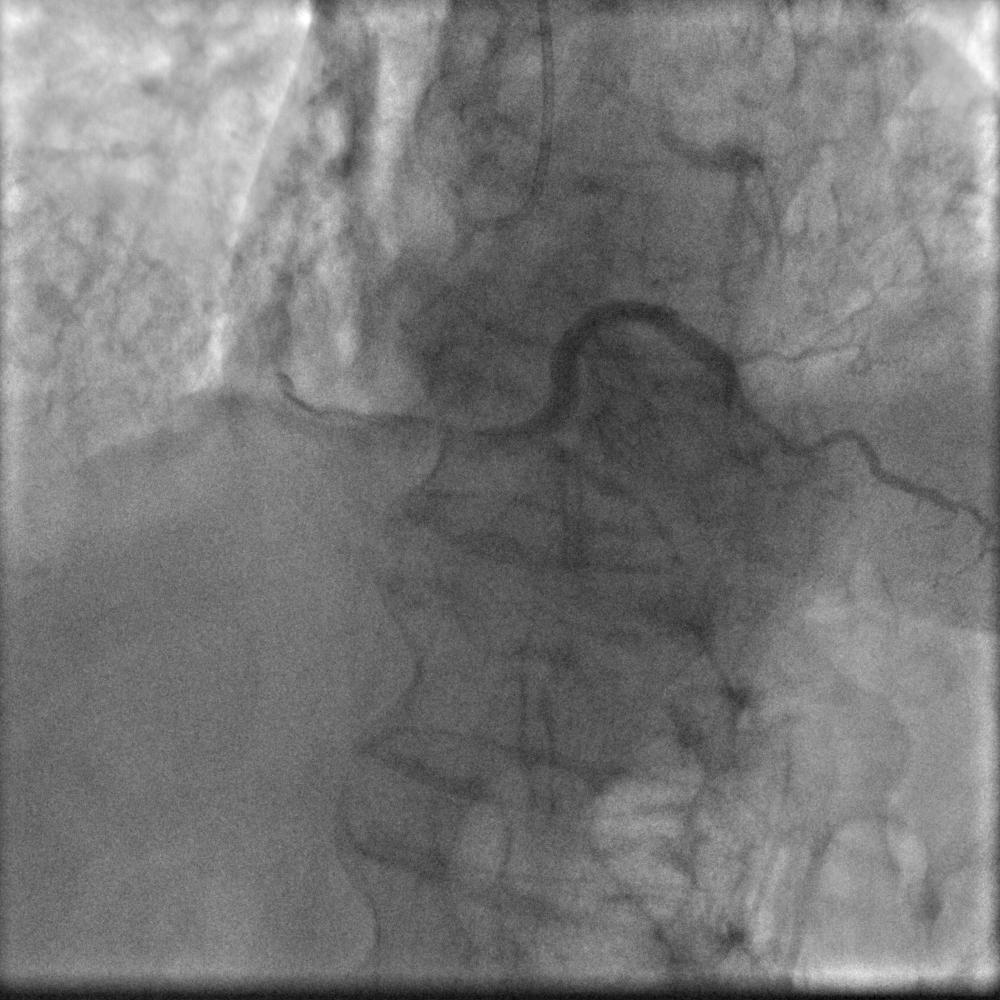Stenosis: (724, 351, 768, 435)
